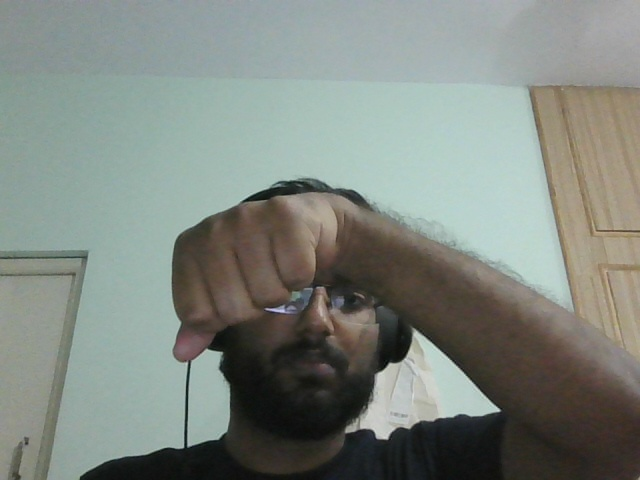Yes: (131, 200, 366, 367)
